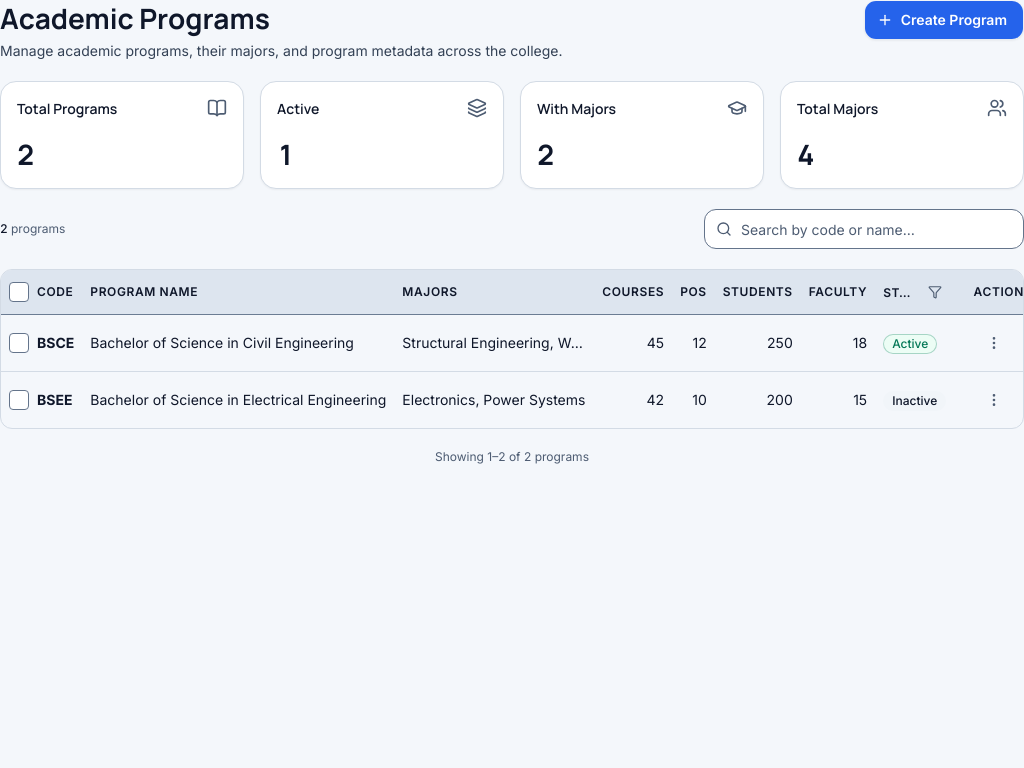
Test: SecretaryProgramsList › keeps the dialog open and shows the error when creation fails
The image size is (1024, 768).
Click the button "Create Program": {"x": 944, "y": 20} left=864, top=0, right=1023, bottom=40
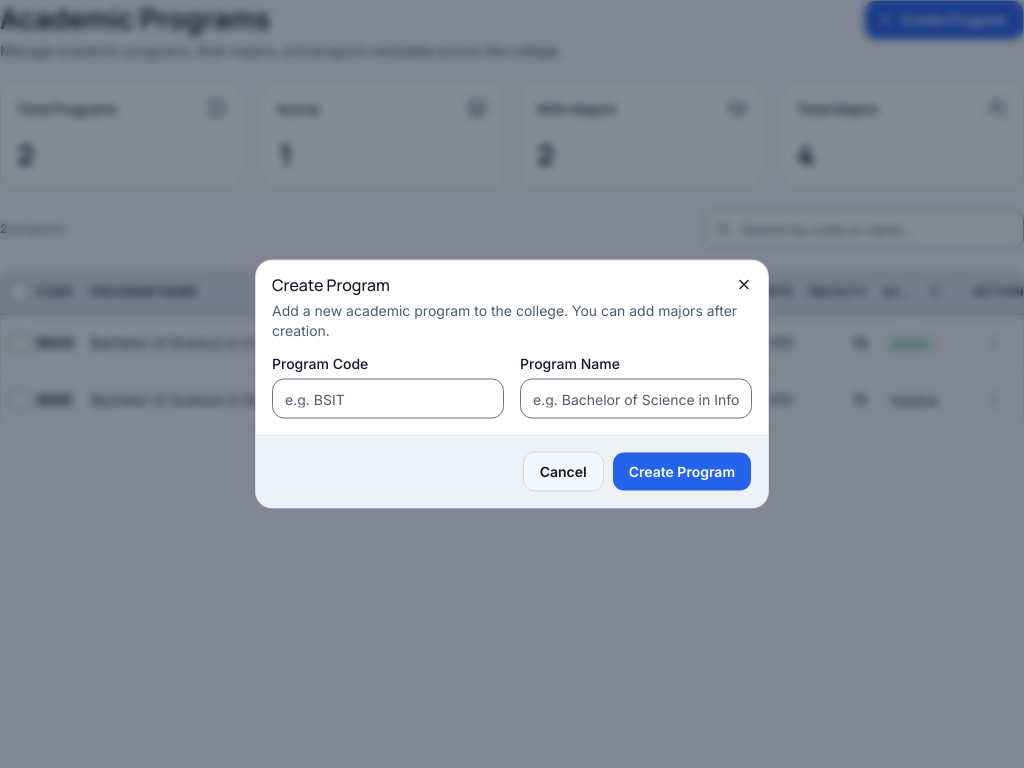
In the field labelled "Program Code": {"x": 388, "y": 398} left=272, top=378, right=504, bottom=418, type "BSIT"
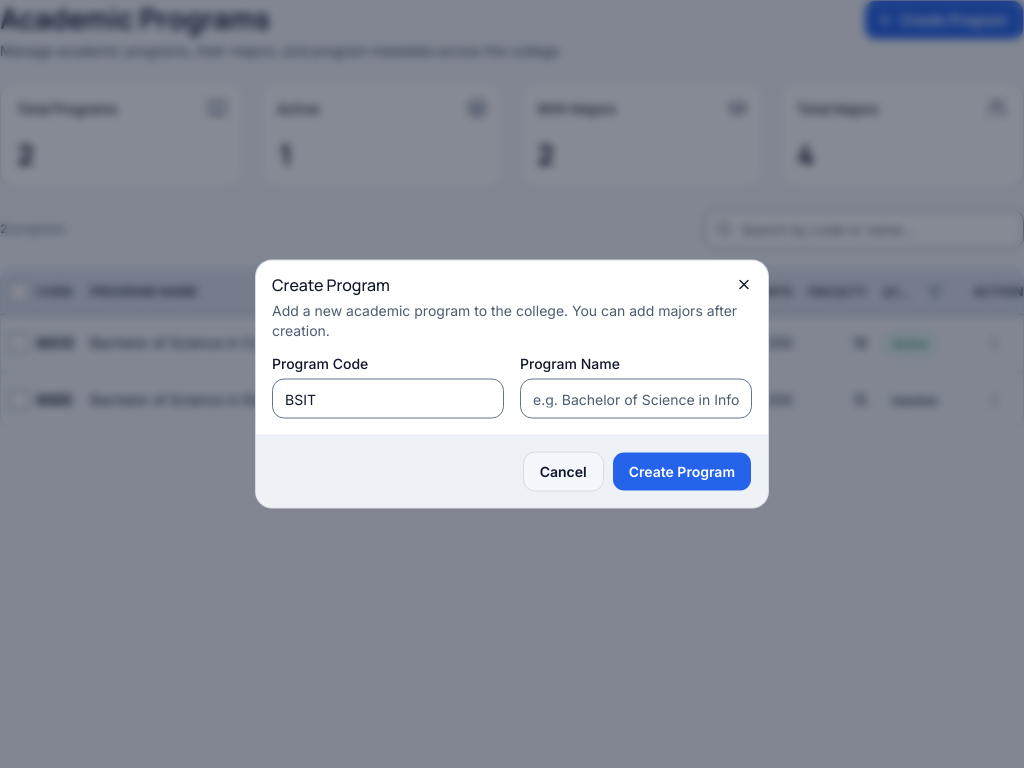
In the field labelled "Program Name": {"x": 636, "y": 398} left=520, top=378, right=752, bottom=418, type "Bachelor of Science in Information Technology"
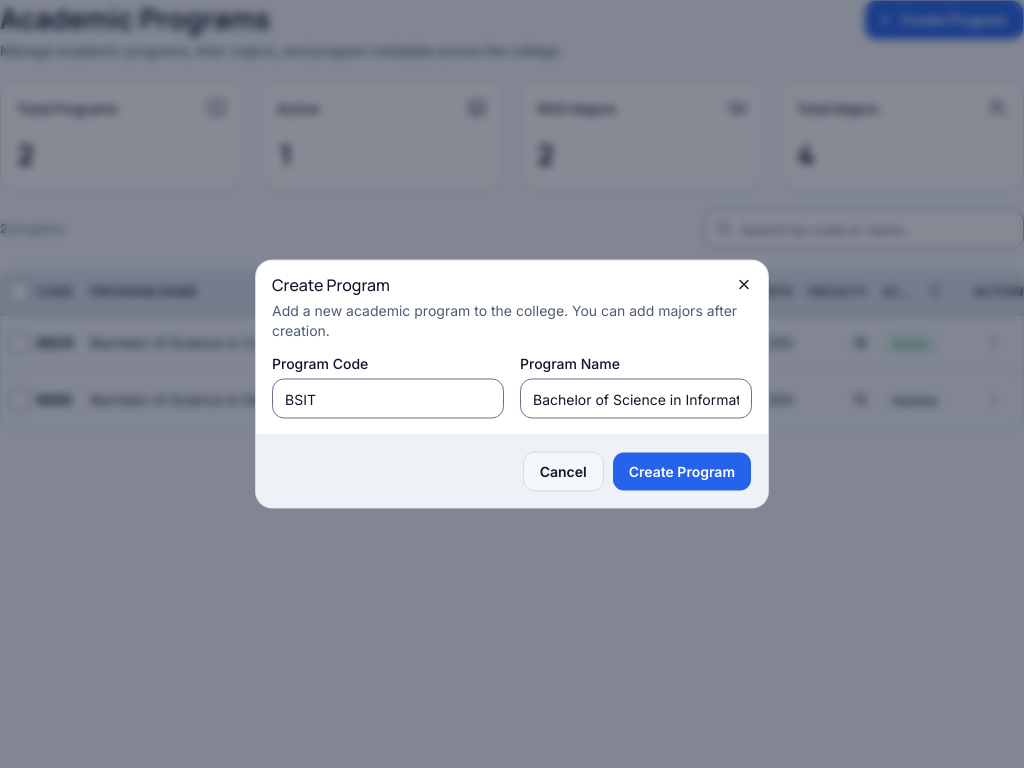
Click the button "Create Program": {"x": 682, "y": 472} left=612, top=452, right=752, bottom=492
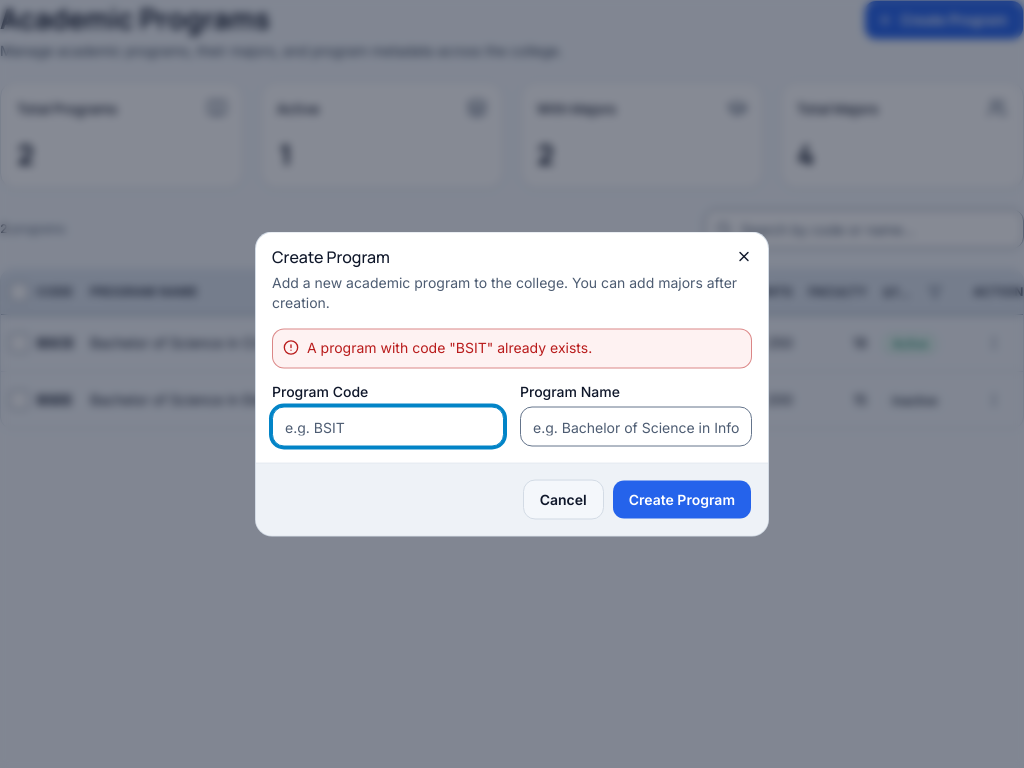
Check: the dialog is shown, box left=256, top=232, right=768, bottom=536
Check: the message reads "A program with code \"BSIT\" already exists.", box left=307, top=338, right=592, bottom=356
